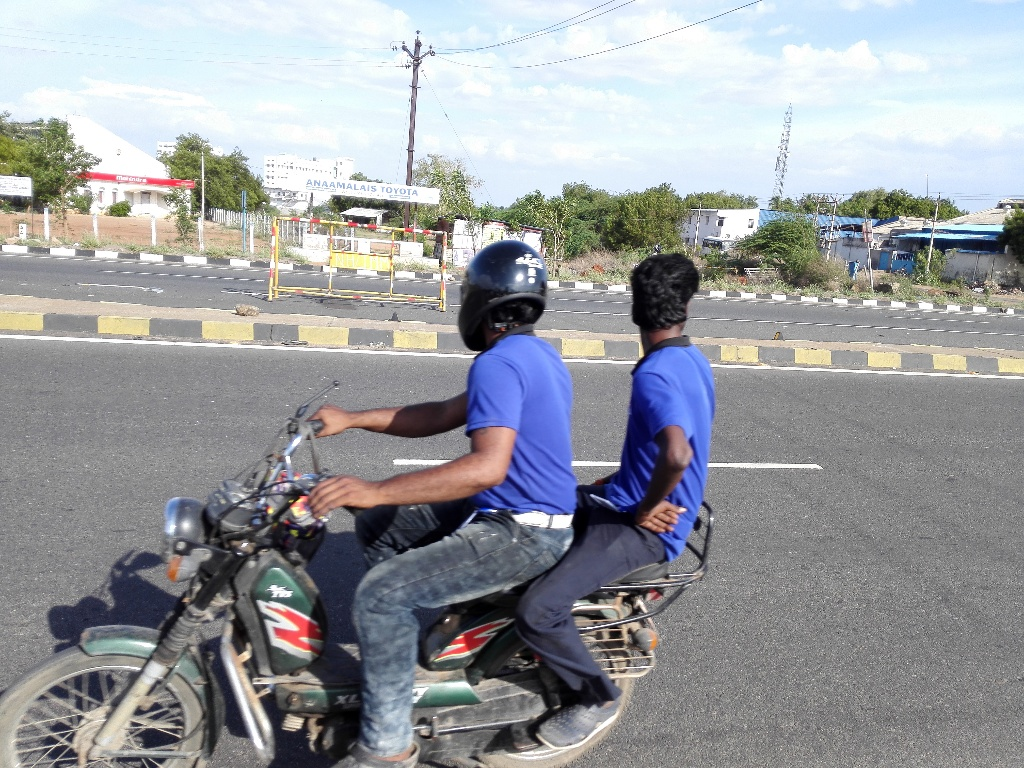biker: (1, 192, 762, 768)
helmet: (445, 233, 565, 365)
nohelmet: (604, 234, 724, 366)
